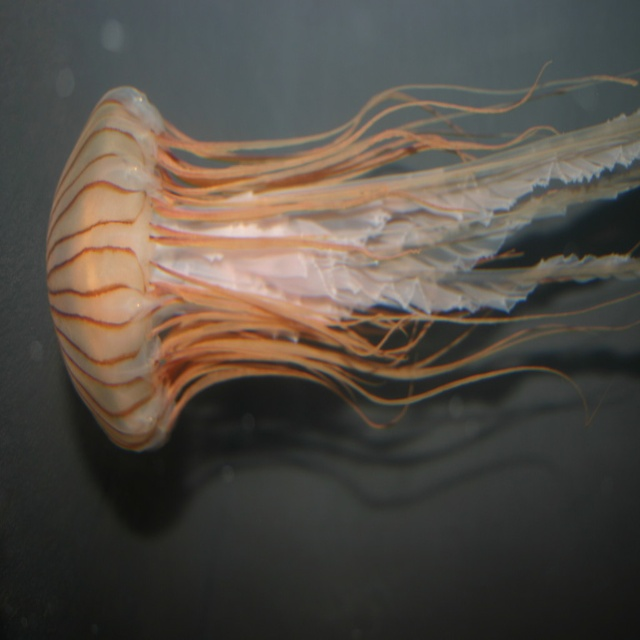Jellyfish: (25, 64, 640, 560)
